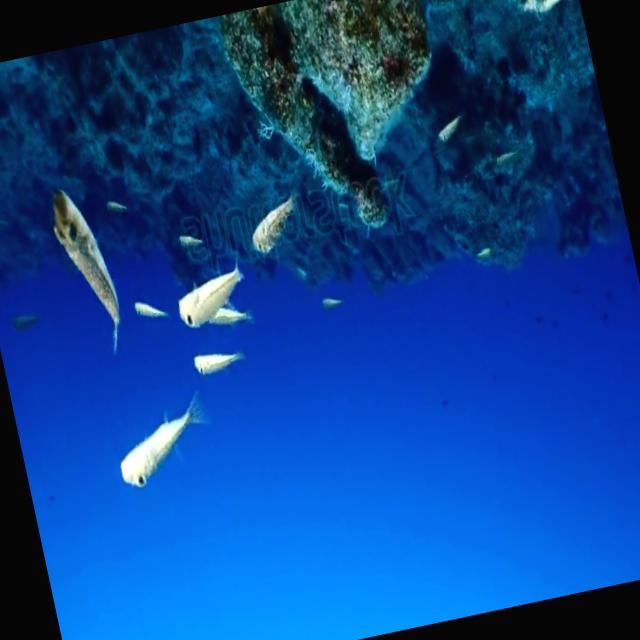Balon Baligi: (39, 183, 132, 363), (103, 397, 221, 500), (172, 260, 251, 336), (238, 192, 306, 266), (183, 332, 252, 382)
